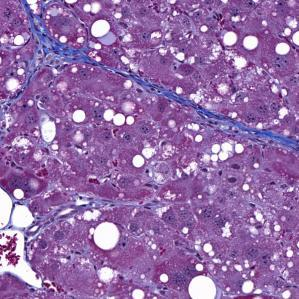fibrosis: (174, 98, 295, 156), (22, 15, 104, 78)
